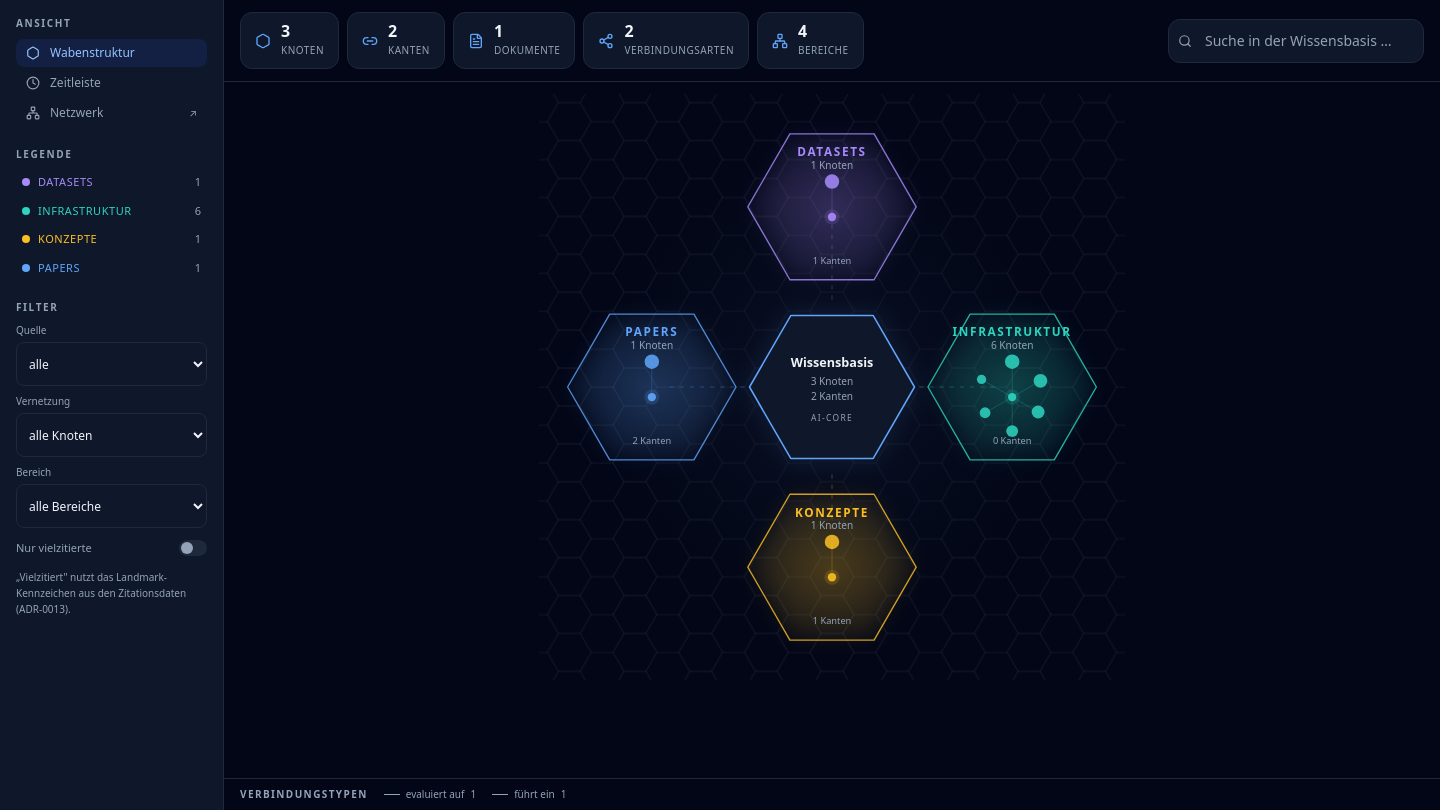
Test: HiveView › findet einen Knoten über die Suche
Expected: the icon named "Wabenstruktur der Wissensbasis" is shown, [236,94,1428,680]
In the field labelled "Suche in der Wissensbasis": (1296, 40) [1168,18,1424,62], type "self-att"
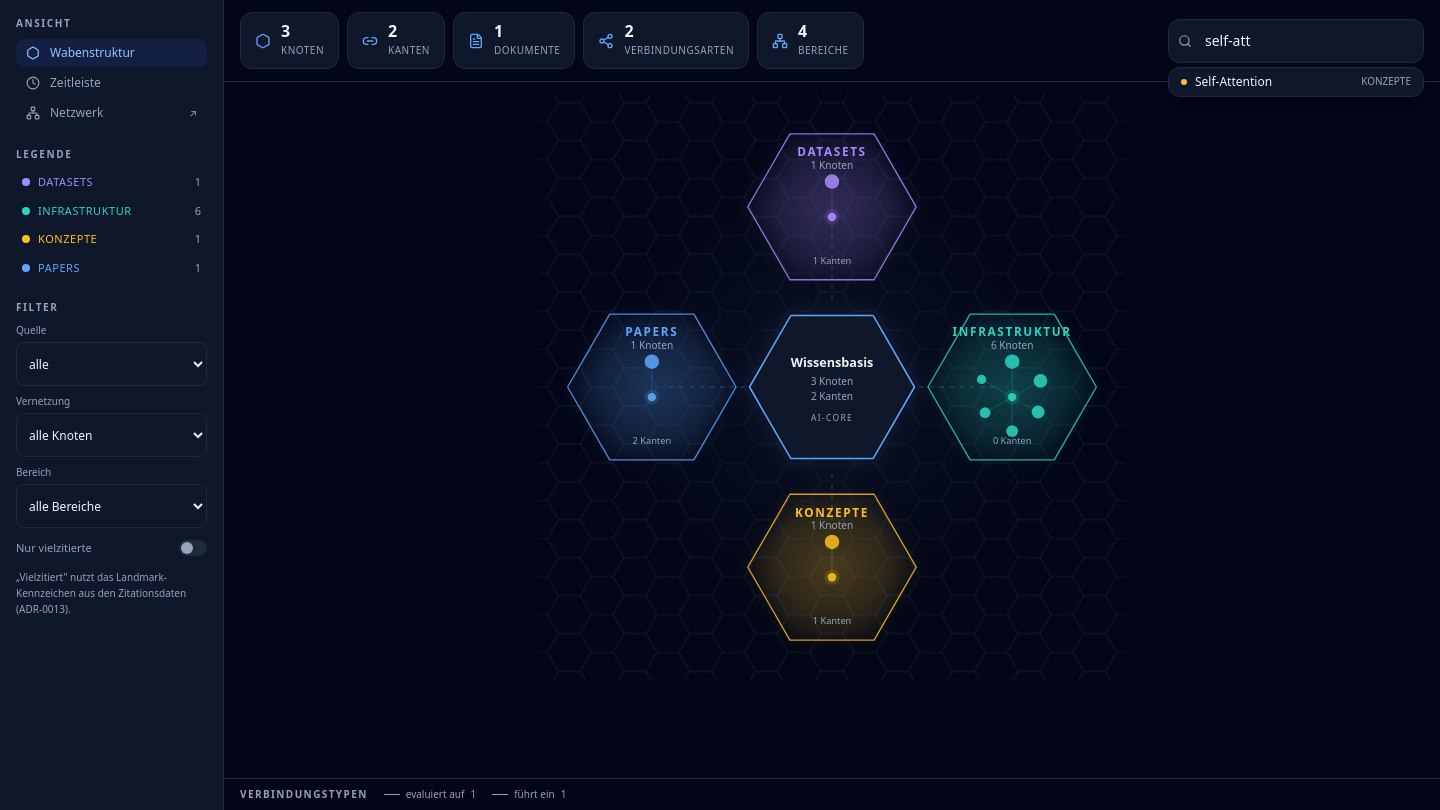
Click the text "Self-Attention": click(1234, 81) [1195,72,1272,90]
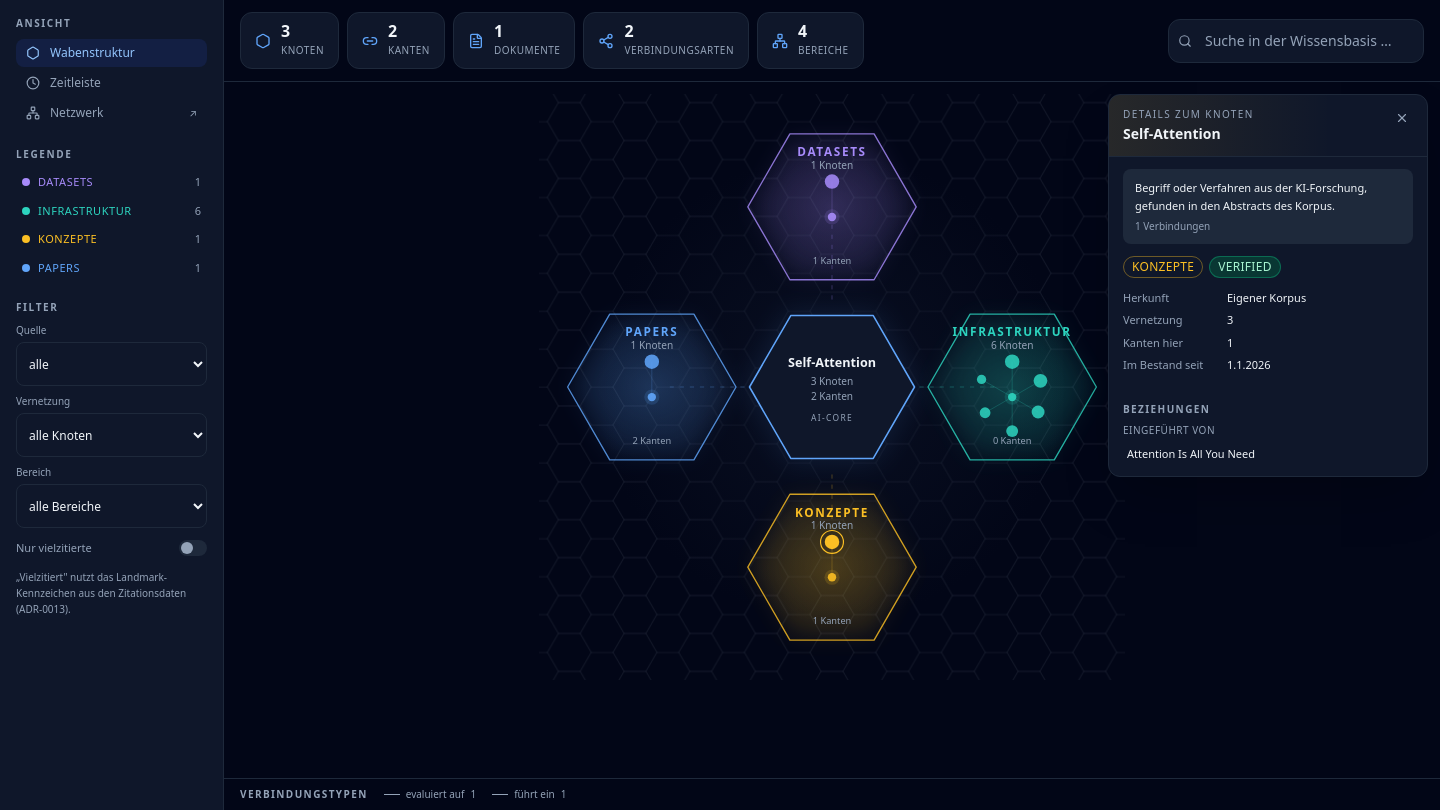
Result: the element "Details zum Knoten Self-Attention" is shown at [1108,94,1428,477]
